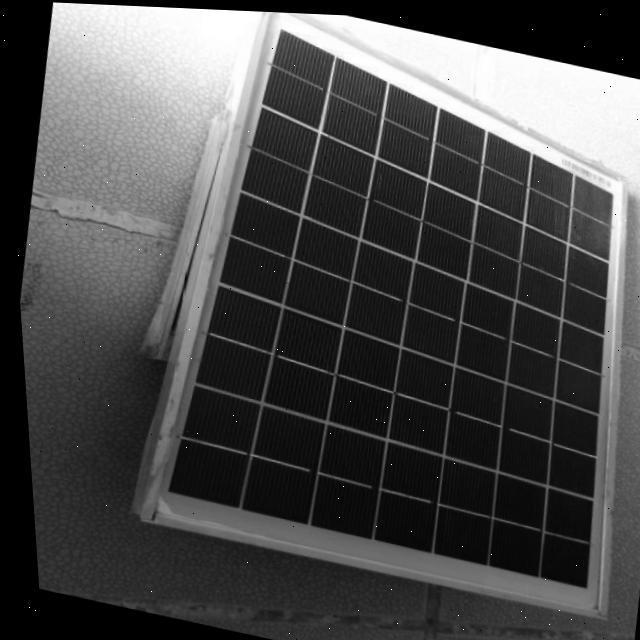Normal Solar Panel: (113, 4, 640, 617)
